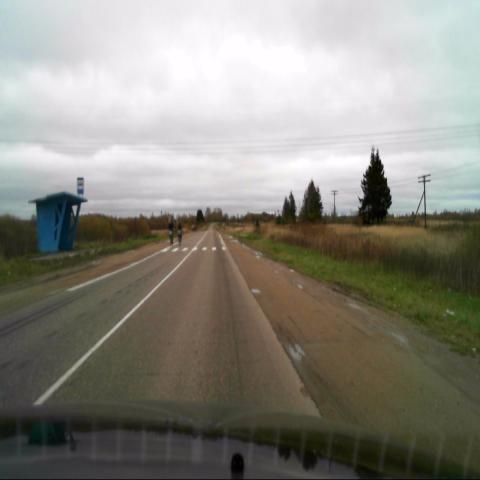5_16: (76, 175, 84, 195)
